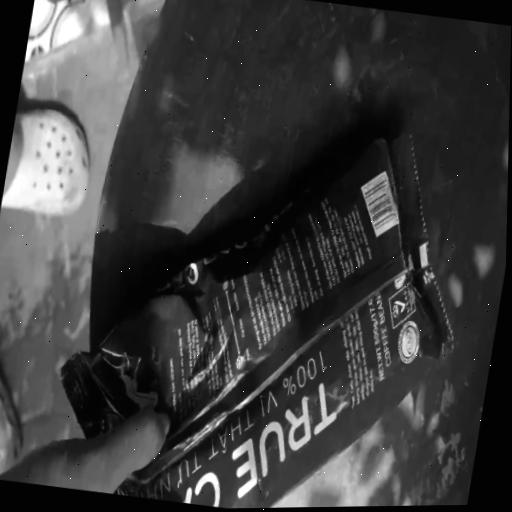cafe_hat: (62, 133, 451, 508), (62, 134, 450, 508)
